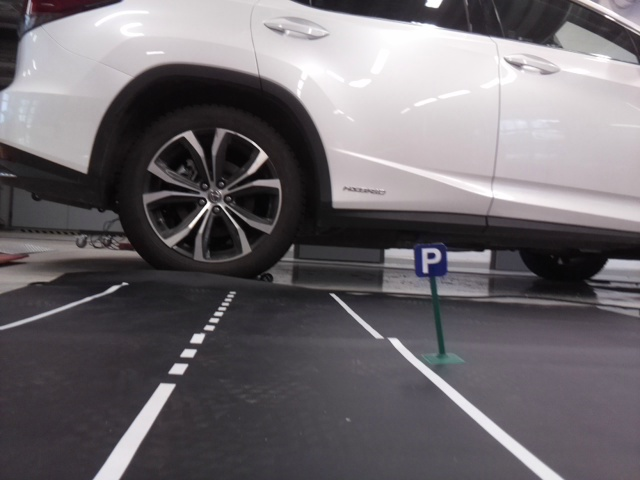Parking: (414, 243, 446, 276)
